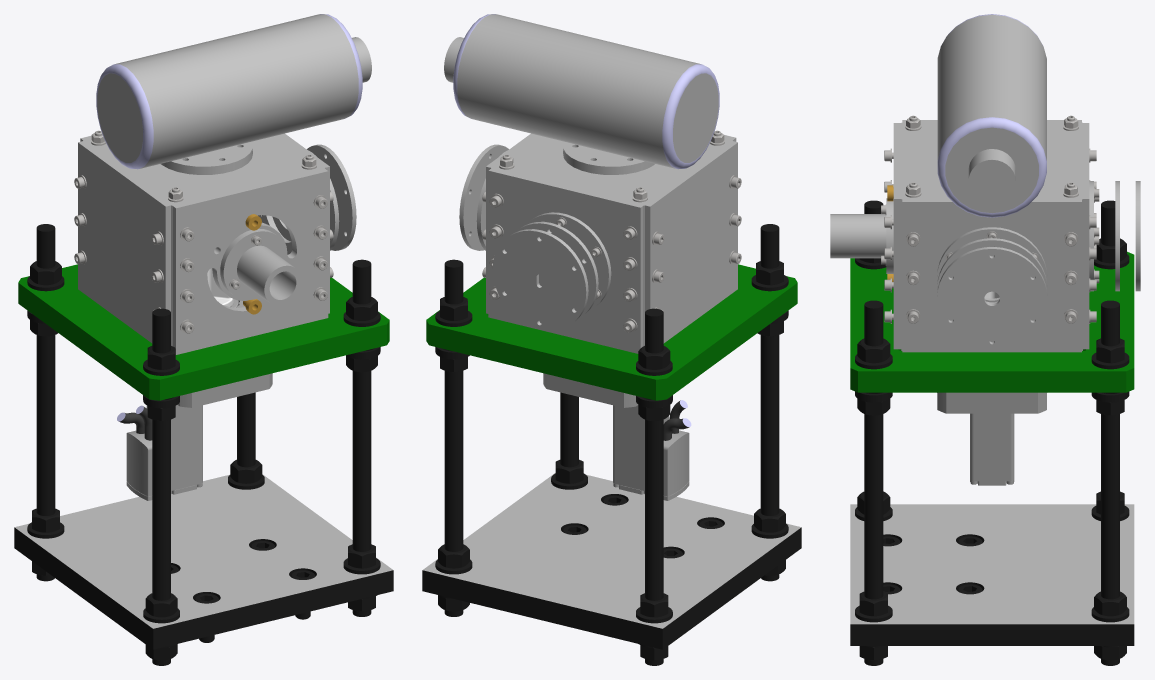
Rendered from Source.gltf.
The picture shows the model from 3 angles, left to right: view 1: azimuth 30°, elevation 25°; view 2: azimuth 150°, elevation 25°; view 3: azimuth 270°, elevation 25°; orthographic projection. The views are drawn at different scales.
Visible parts, largest first — view 1: Platte-009, X-ray tube, Back-Plate, Ground-Plate, Site-Plate-2, Top, 2645847 ERMO-16-SE---(m), Gewindestange004, Gewindestange006, Laser-Holder, Gewindestange007, Ring-3 (+7 smaller); view 2: Platte-009, X-ray tube, Ground-Plate, Site-Plate-2, Front-Plate, Ring-6, Top, 2645847 ERMO-16-SE---(m), Gewindestange005, Gewindestange007, Gewindestange006, Ring-3 (+8 smaller); view 3: Platte-009, X-ray tube, Ground-Plate, Site-Plate-1, Ring-3, Top, Gewindestange004, Gewindestange005, 2645847 ERMO-16-SE---(m), Laser-Holder, 2954696 ERMO-16---(geh), Back-Plate (+11 smaller).
Boxes of the visible parts, x1,y1,x2,y2 form: Platte-009: (14, 474, 393, 649); X-ray tube: (96, 14, 371, 174); Back-Plate: (172, 168, 328, 354); Ground-Plate: (18, 264, 389, 400); Site-Plate-2: (78, 141, 170, 343); Top: (83, 135, 324, 212); 2645847 ERMO-16-SE---(m): (117, 405, 202, 500); Gewindestange004: (352, 259, 371, 616); Gewindestange006: (36, 224, 55, 581); Laser-Holder: (220, 228, 301, 305); Gewindestange007: (152, 308, 170, 665); Ring-3: (307, 144, 356, 250); Platte-009: (422, 473, 801, 649); X-ray tube: (444, 14, 719, 174); Ground-Plate: (426, 264, 797, 400); Site-Plate-2: (645, 141, 737, 343); Front-Plate: (488, 168, 643, 353); Ring-6: (492, 229, 588, 330); Top: (491, 135, 732, 212); 2645847 ERMO-16-SE---(m): (613, 400, 691, 500); Gewindestange005: (444, 259, 463, 616); Gewindestange007: (760, 224, 779, 581); Gewindestange006: (645, 308, 663, 665); Ring-3: (459, 144, 508, 250); Platte-009: (850, 504, 1134, 645); X-ray tube: (937, 14, 1046, 217); Ground-Plate: (850, 251, 1134, 392); Site-Plate-1: (902, 199, 1081, 352); Ring-3: (937, 247, 1047, 348); Top: (901, 122, 1082, 206); Gewindestange004: (864, 300, 883, 665); Gewindestange005: (1101, 300, 1119, 665); 2645847 ERMO-16-SE---(m): (970, 413, 1014, 485); Laser-Holder: (830, 198, 893, 273); 2954696 ERMO-16---(geh): (937, 392, 1046, 413); Back-Plate: (893, 123, 902, 349).
Bounding box in the file's own units: 0.2071 × 0.3908 × 0.1965.
